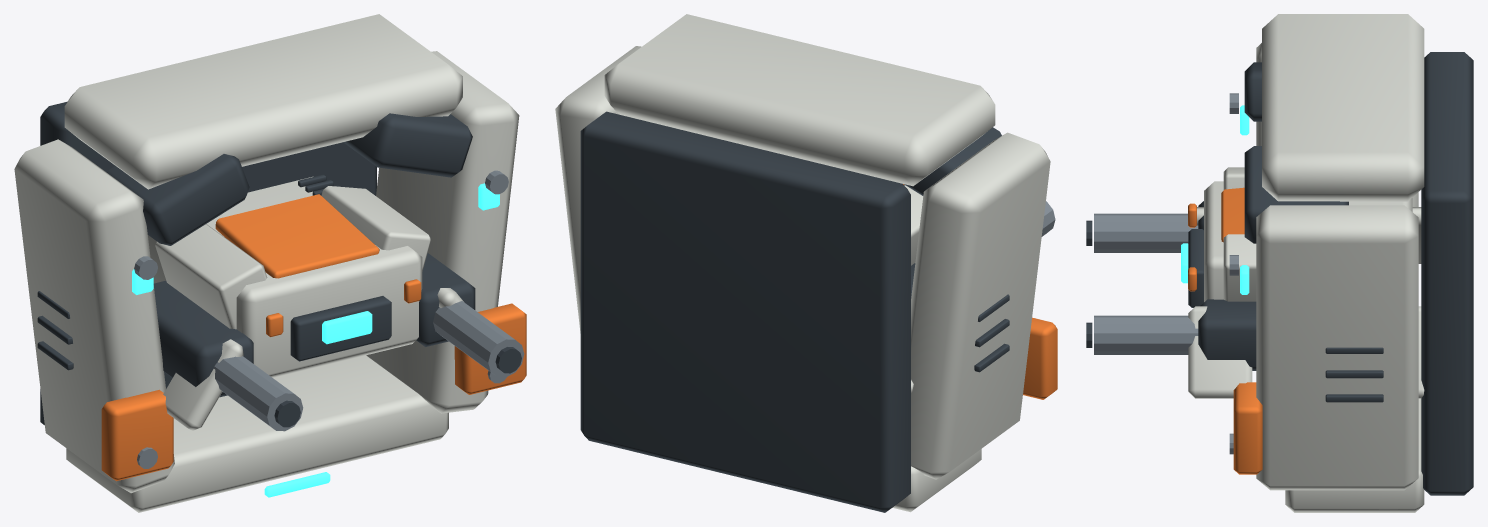
The model's file is VXDR_ATTACK_v002_DOCKED.fbx.
3 renders of one model, left to right at view 1: azimuth 30°, elevation 25°; view 2: azimuth 150°, elevation 25°; view 3: azimuth 270°, elevation 25°, orthographic. The views are drawn at different scales.
Visible parts, largest first — view 1: Docked_Top bridge, Docked_Cradle armored rail, Docked_Bottom charging bridge, Docked_Cradle armored rail.001, Docked_Armored sensor shell, Docked_Top identification, Docked_Angled cradle brow, Docked_Sloped cheek armor, Docked_Body mounting plate, Docked_Angled cradle brow.001, Docked_Gun carrier, Docked_Rail orange latch (+9 smaller); view 2: Docked_Body mounting plate, Docked_Top bridge, Docked_Cradle armored rail, Docked_Cradle armored rail.001, Docked_Rail orange latch, Docked_Bottom charging bridge, Docked_Angled cradle brow, Docked_Sloped cheek armor; view 3: Docked_Cradle armored rail.001, Docked_Top bridge, Docked_Body mounting plate, Docked_Cannon barrel.001, Docked_Cannon barrel, Docked_Bottom charging bridge, Docked_Gun carrier.001, Docked_Foldable stabilizer.002, Docked_Rail orange latch.001, Docked_Armored sensor shell, Docked_Angled cradle brow.001, Docked_Sloped cheek armor.001 (+6 smaller).
Boxes of the visible parts, left/top/right/bottom form: Docked_Top bridge: left=64, top=14, right=462, bottom=189; Docked_Cradle armored rail: left=14, top=139, right=174, bottom=493; Docked_Bottom charging bridge: left=66, top=355, right=448, bottom=512; Docked_Cradle armored rail.001: left=366, top=51, right=519, bottom=413; Docked_Armored sensor shell: left=148, top=176, right=422, bottom=377; Docked_Top identification: left=215, top=194, right=379, bottom=278; Docked_Angled cradle brow: left=107, top=154, right=249, bottom=245; Docked_Sloped cheek armor: left=155, top=224, right=267, bottom=329; Docked_Body mounting plate: left=40, top=101, right=376, bottom=424; Docked_Angled cradle brow.001: left=343, top=113, right=472, bottom=177; Docked_Gun carrier: left=153, top=280, right=253, bottom=397; Docked_Rail orange latch: left=101, top=389, right=173, bottom=481; Docked_Body mounting plate: left=580, top=111, right=910, bottom=512; Docked_Top bridge: left=604, top=14, right=995, bottom=186; Docked_Cradle armored rail: left=911, top=132, right=1050, bottom=479; Docked_Cradle armored rail.001: left=555, top=46, right=641, bottom=333; Docked_Rail orange latch: left=1023, top=317, right=1057, bottom=399; Docked_Bottom charging bridge: left=892, top=449, right=981, bottom=512; Docked_Angled cradle brow: left=904, top=127, right=1001, bottom=195; Docked_Sloped cheek armor: left=904, top=184, right=923, bottom=265; Docked_Cradle armored rail.001: left=1256, top=205, right=1418, bottom=490; Docked_Top bridge: left=1262, top=14, right=1424, bottom=201; Docked_Body mounting plate: left=1421, top=52, right=1473, bottom=495; Docked_Cannon barrel.001: left=1094, top=315, right=1198, bottom=354; Docked_Cannon barrel: left=1094, top=213, right=1198, bottom=252; Docked_Bottom charging bridge: left=1285, top=398, right=1424, bottom=512; Docked_Gun carrier.001: left=1198, top=299, right=1256, bottom=370; Docked_Foldable stabilizer.002: left=1188, top=306, right=1252, bottom=398; Docked_Rail orange latch.001: left=1233, top=382, right=1262, bottom=474; Docked_Armored sensor shell: left=1204, top=181, right=1412, bottom=301; Docked_Angled cradle brow.001: left=1244, top=146, right=1348, bottom=243; Docked_Sloped cheek armor.001: left=1223, top=234, right=1256, bottom=301.
Size of the model in its own units: 40.81 by 35 by 33.4.
